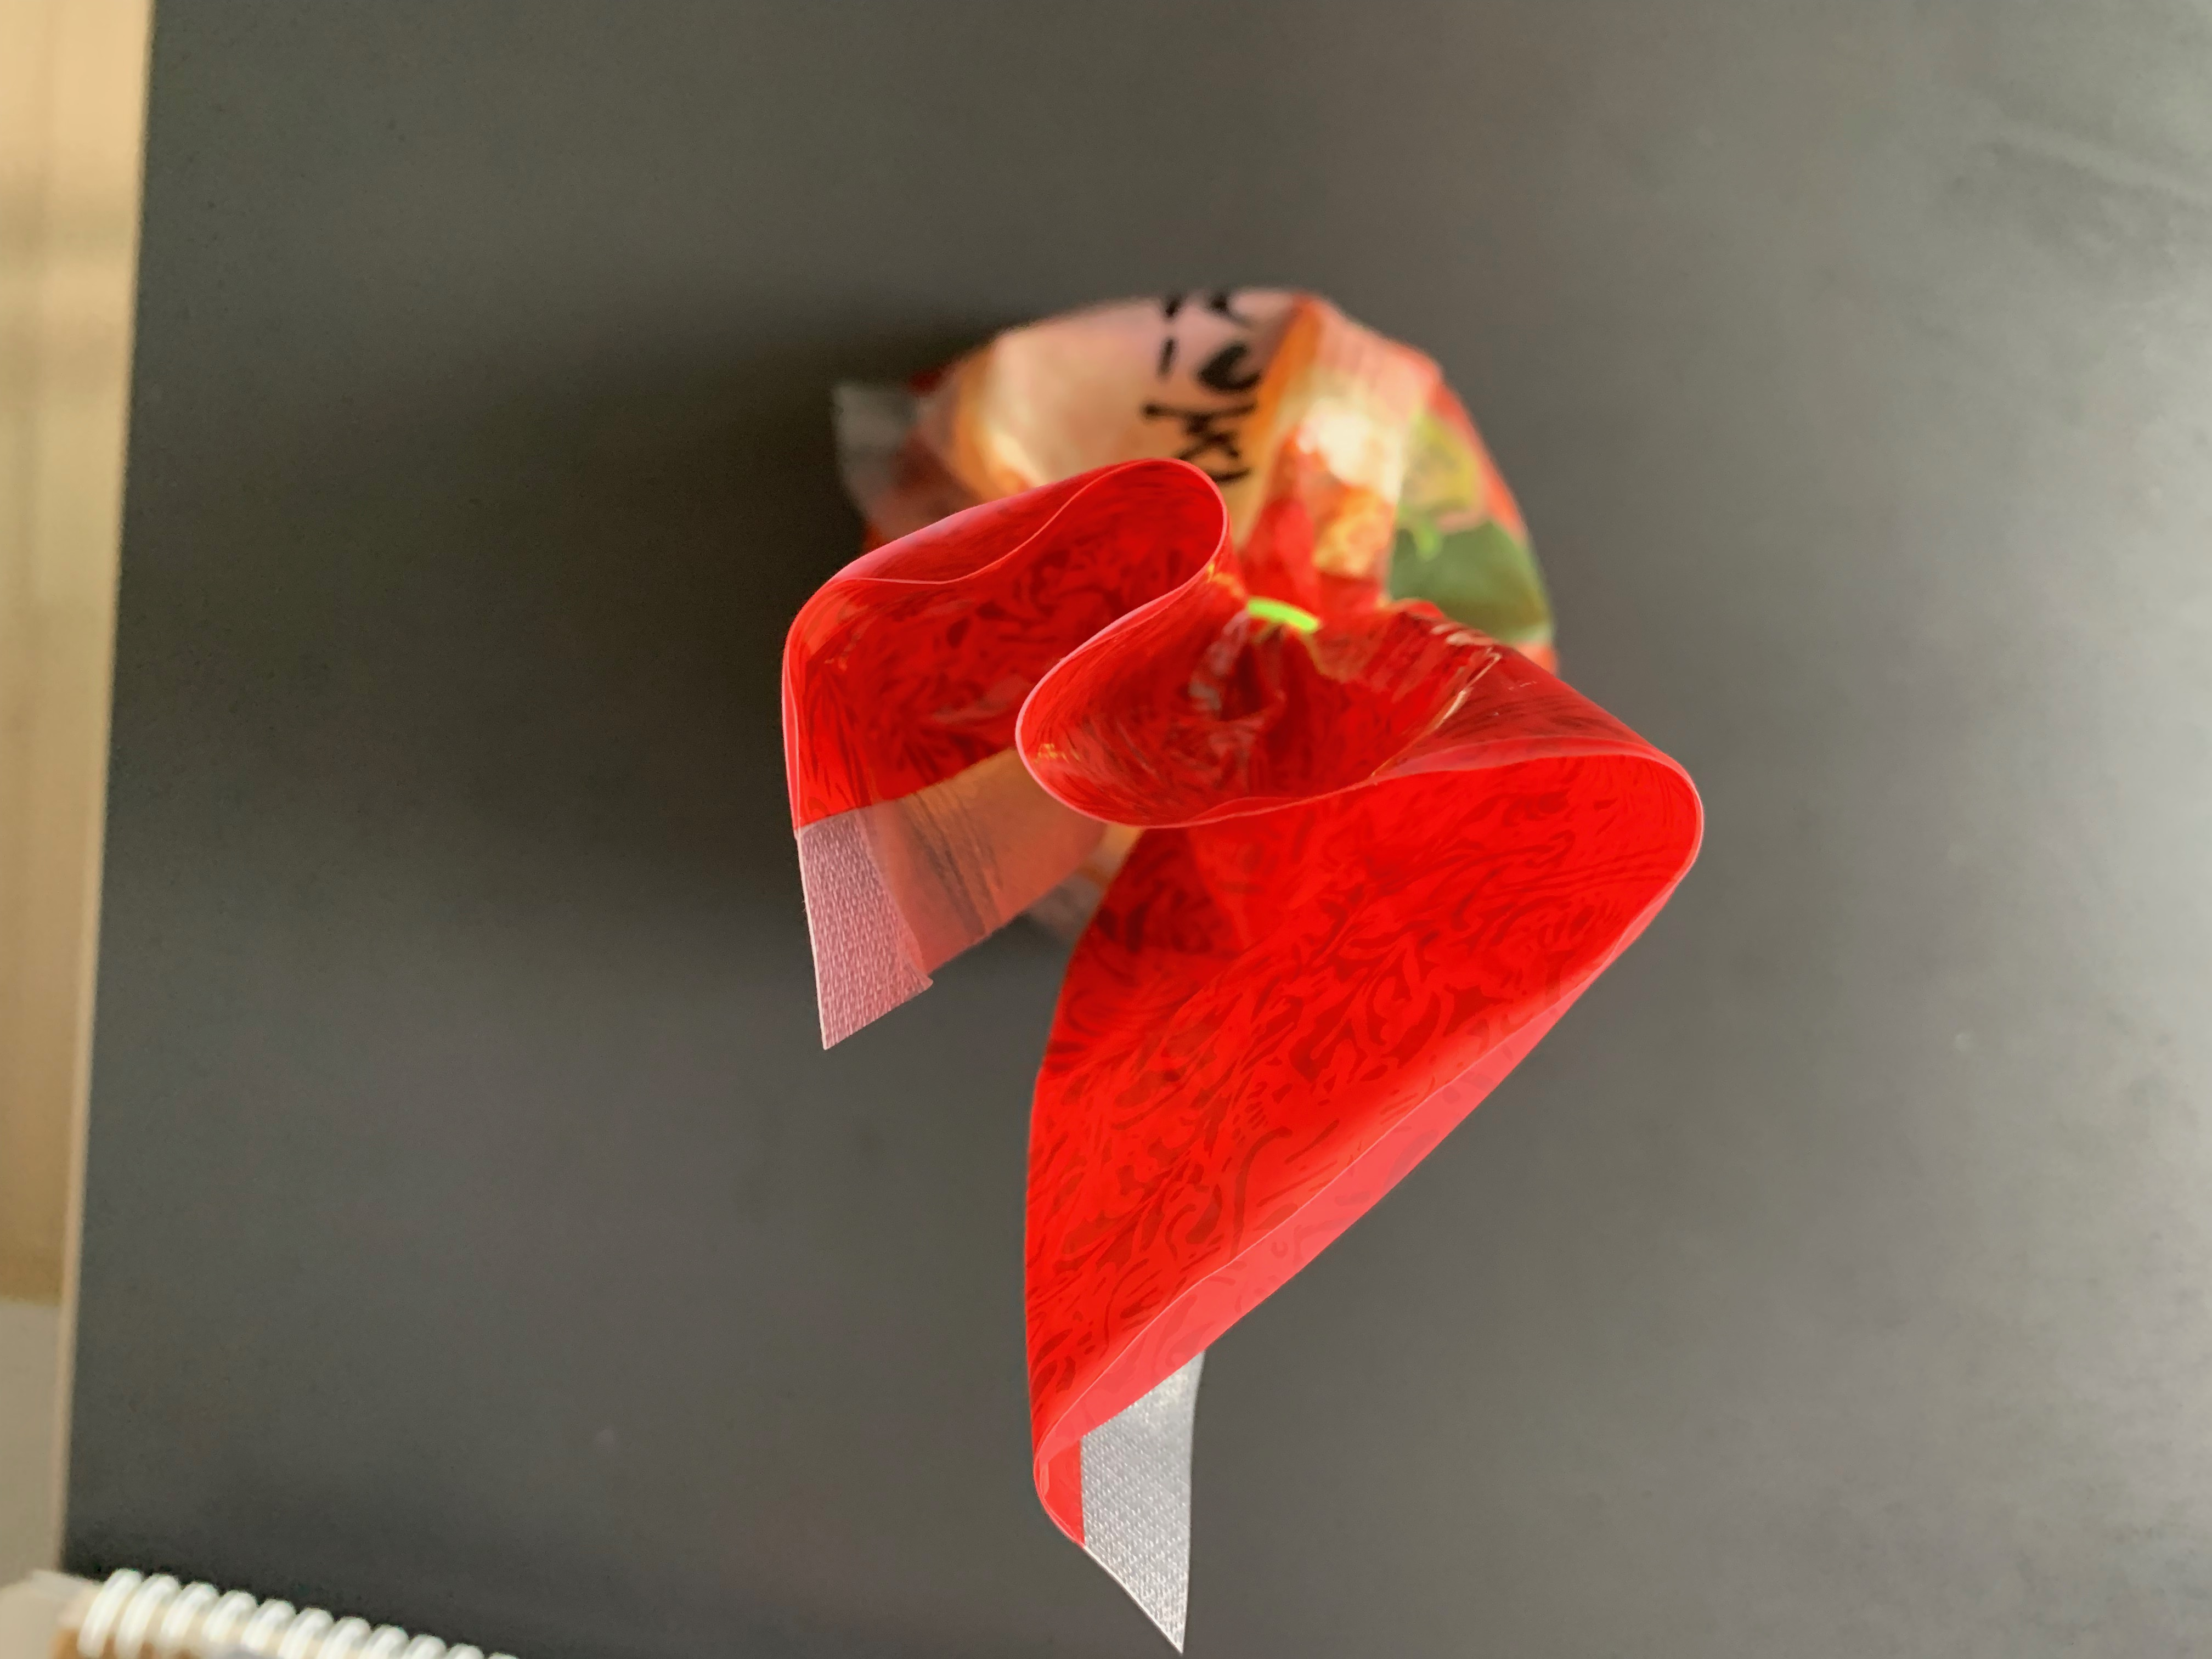kimchi: (782, 288, 1705, 1481)
